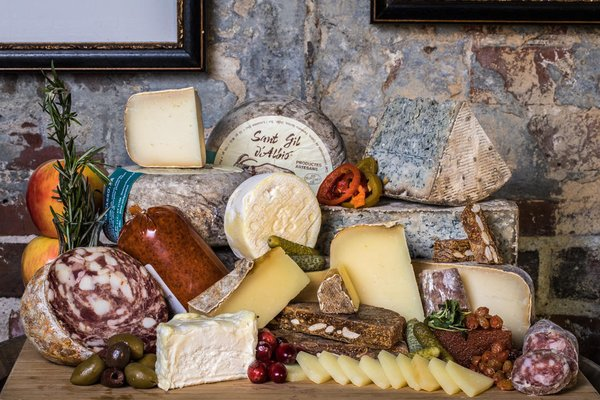taco: (21, 236, 60, 284)
